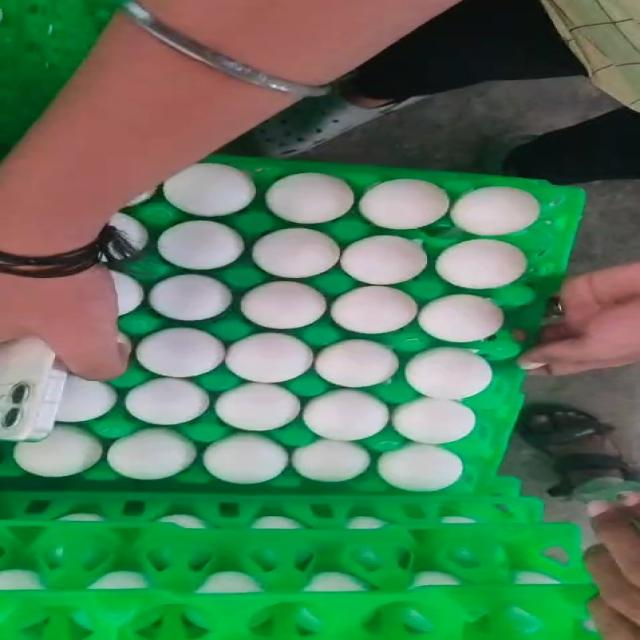egg_tray: (51, 160, 578, 490), (129, 157, 582, 358), (0, 523, 593, 639), (0, 522, 588, 593), (0, 585, 598, 639), (0, 474, 541, 528), (0, 489, 541, 529), (368, 316, 449, 352), (293, 316, 337, 346), (216, 315, 253, 339), (16, 445, 36, 470), (127, 314, 151, 334), (283, 291, 301, 313), (44, 468, 68, 474), (428, 318, 435, 327), (253, 300, 258, 307), (230, 306, 237, 310), (300, 325, 308, 328), (262, 309, 266, 315), (379, 309, 383, 315), (494, 203, 498, 208), (47, 440, 50, 446), (116, 575, 122, 578), (370, 327, 374, 331), (217, 315, 221, 319), (436, 328, 441, 331), (371, 318, 374, 323), (110, 578, 114, 581), (479, 240, 484, 241), (53, 464, 55, 466), (226, 159, 228, 161), (238, 580, 240, 582), (432, 312, 434, 314), (246, 305, 248, 307), (250, 191, 252, 193), (370, 526, 372, 527), (71, 464, 72, 466), (509, 209, 510, 211), (461, 339, 462, 341), (444, 331, 446, 332), (126, 228, 127, 230), (355, 331, 356, 332), (19, 636, 21, 636)
